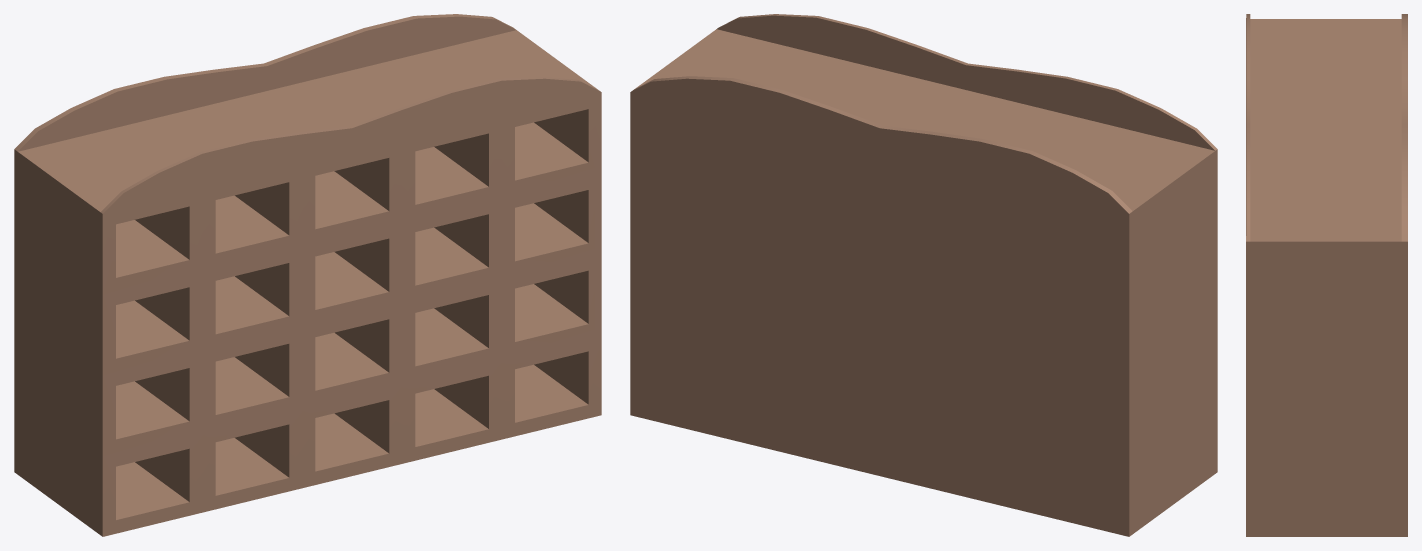
File: Book Shelf.FBX
The picture shows the model from 3 angles, left to right: view 1: azimuth 30°, elevation 25°; view 2: azimuth 150°, elevation 25°; view 3: azimuth 270°, elevation 25°; orthographic projection. The views are drawn at different scales.
Visible parts, largest first — view 1: Box001; view 2: Box001; view 3: Box001.
Boxes of the visible parts, x1,y1,x2,y2 form: Box001: [14, 14, 601, 536]; Box001: [630, 14, 1217, 536]; Box001: [1246, 14, 1407, 536].
Bounding box in the file's own units: 62.96 × 43.28 × 19.35.
Materials: 1 (1 with a texture image).
